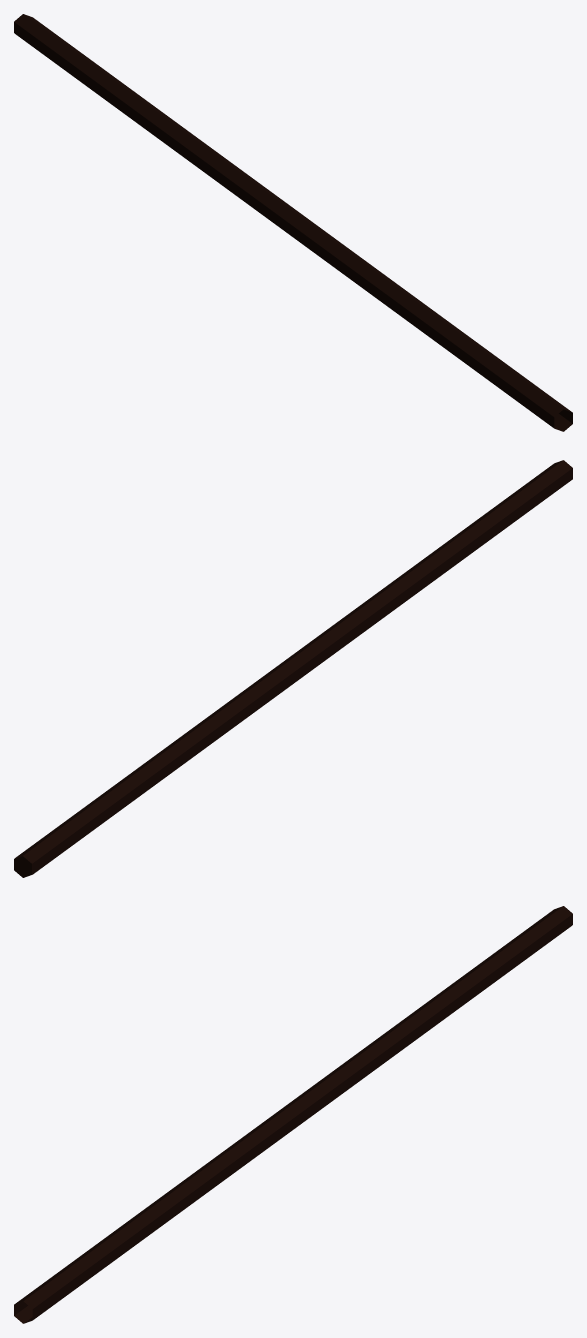
The model's file is HexagonFinal.FBX.
3 renders of one model, top to bottom at view 1: azimuth 30°, elevation 25°; view 2: azimuth 150°, elevation 25°; view 3: azimuth 330°, elevation 25°, orthographic.
Parts seen in each view (by area): view 1: Sides001; view 2: Sides001; view 3: Sides001.
Part boxes in pixels (<box>): Sides001: <box>14,14,572,431</box>; Sides001: <box>14,460,572,877</box>; Sides001: <box>14,906,572,1323</box>.
Size of the model in its own units: 254 by 12700 by 293.
